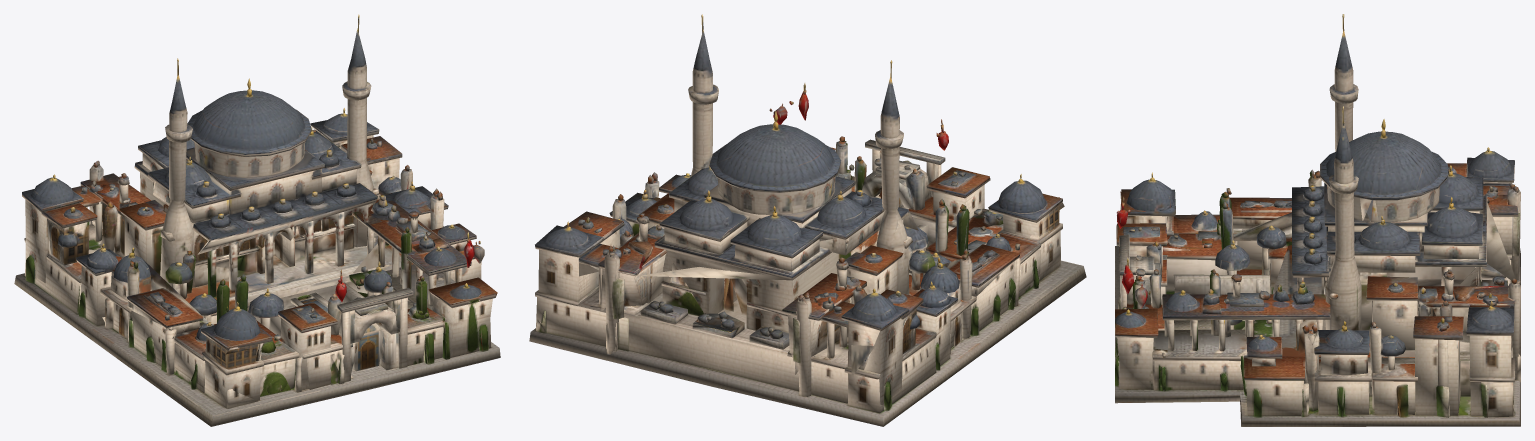
File: Meshy_AI_model.glb
3 views of the same model, side by side, from view 1: azimuth 30°, elevation 25°; view 2: azimuth 150°, elevation 25°; view 3: azimuth 270°, elevation 25° (orthographic). The views are drawn at different scales.
Bounding box in the file's own units: 1 × 0.7648 × 1.
Materials: 1 (1 with a texture image).
